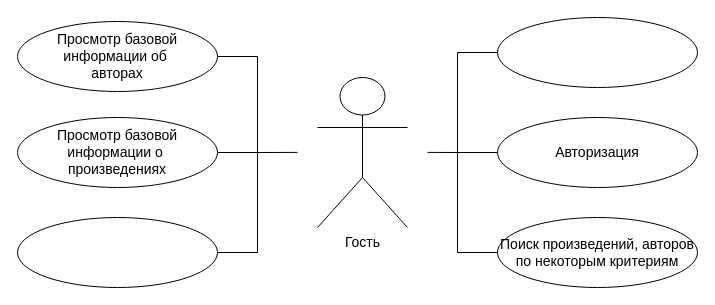
The diagram is 715 pixels wide and 305 high, and some of its shapes have lost their labels. The shapes that lost their labels are listed below. From the top down, each one's centre as x and y in pixels, then its label:
At point (597, 52): "Регистрация".
At point (117, 252): "Просмотр базовой информации о сериях".
